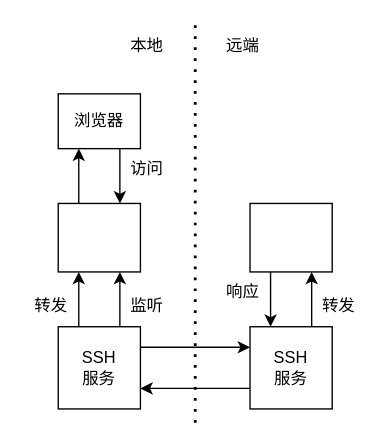
This 389x448 diagram has some shape labels left out. The shapes that lost their labels are listed below. From the top down, each one's centre as x and y in pixels, then its label:
At point 98,237: "9999 端口".
At point 290,237: "8888 端口".
